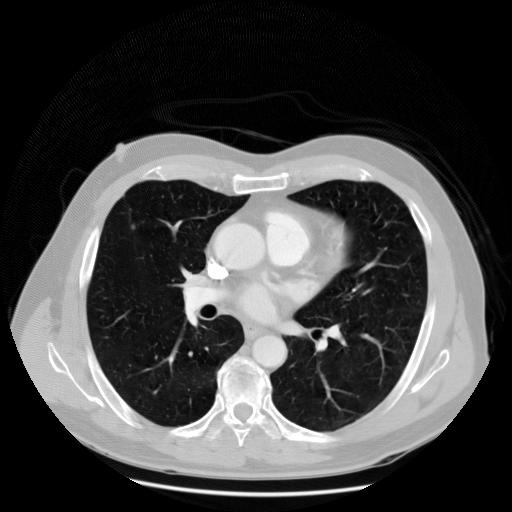nodule: (127, 221, 139, 233)
